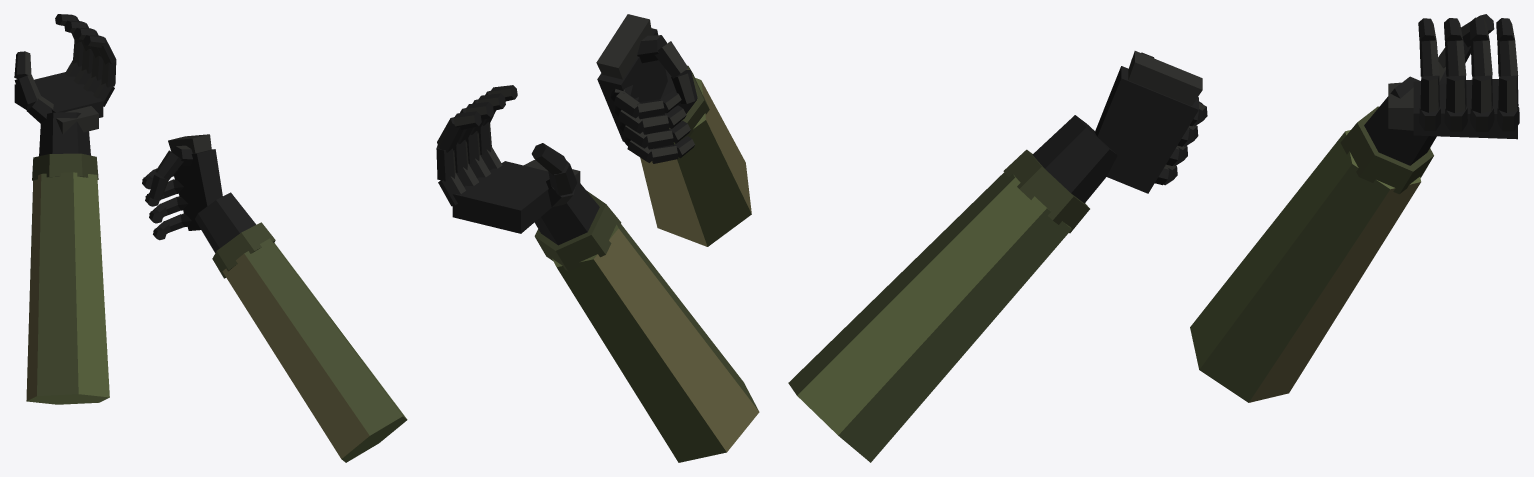
The model's file is maos_wf_mosin.glb.
The picture shows the model from 3 angles, left to right: view 1: azimuth 30°, elevation 25°; view 2: azimuth 150°, elevation 25°; view 3: azimuth 270°, elevation 25°; orthographic projection. The views are drawn at different scales.
Parts seen in each view (by area): view 1: MaoE, MaoD; view 2: MaoE, MaoD; view 3: MaoD, MaoE.
Boxes of the visible parts, x1,y1,x2,y2 form: MaoE: [14, 14, 116, 404]; MaoD: [142, 134, 407, 462]; MaoE: [436, 85, 759, 462]; MaoD: [596, 14, 751, 246]; MaoD: [788, 51, 1207, 462]; MaoE: [1190, 14, 1519, 402].
Size of the model in its own units: 0.3394 by 0.4462 by 0.6877.
